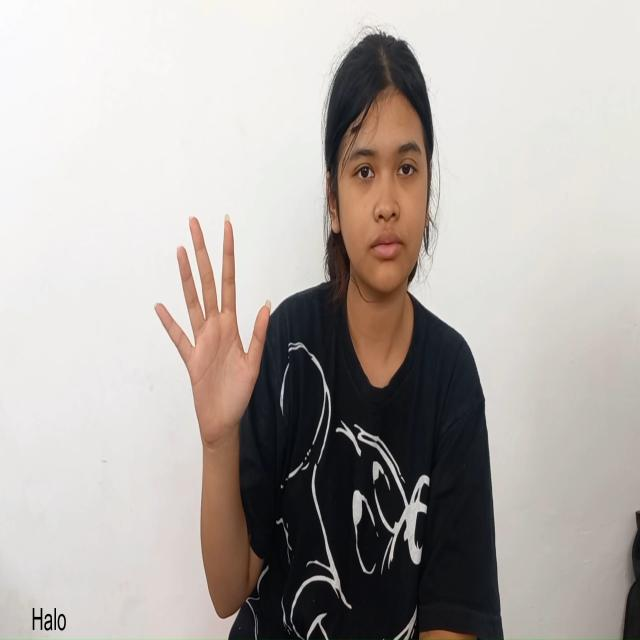Halo -BISINDO-: (151, 208, 276, 484)
